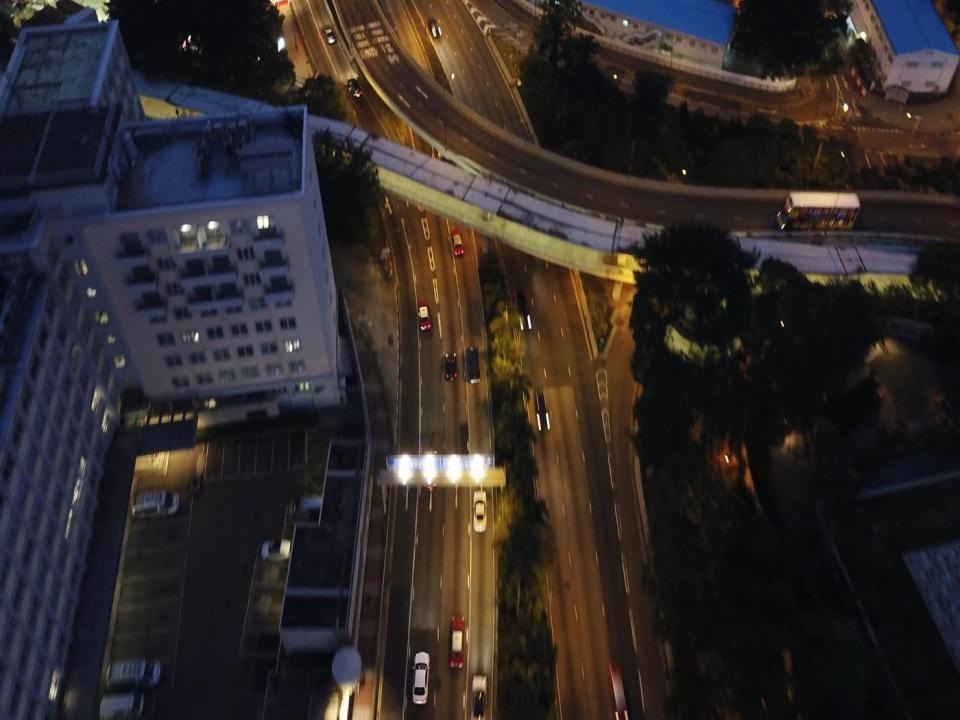car: (776, 192, 860, 230), (608, 663, 628, 719), (412, 652, 430, 704), (514, 288, 532, 331), (532, 388, 550, 430), (470, 675, 487, 719), (450, 616, 464, 669), (422, 450, 438, 490), (472, 490, 487, 532), (436, 135, 451, 169), (451, 227, 464, 256), (418, 300, 430, 330), (445, 353, 458, 380), (426, 15, 442, 36), (347, 78, 362, 98), (322, 25, 336, 44)
truck: (467, 346, 481, 385)
